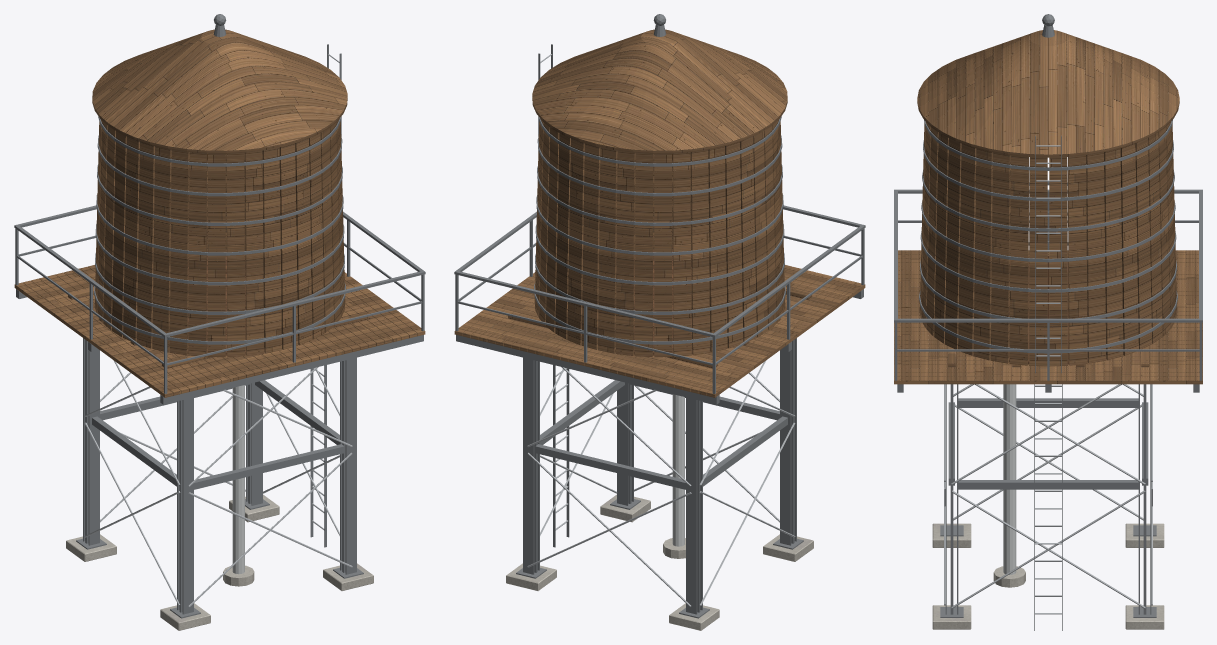
Rendered from water_tower.glb.
The picture shows the model from 3 angles, left to right: view 1: azimuth 30°, elevation 25°; view 2: azimuth 150°, elevation 25°; view 3: azimuth 270°, elevation 25°; orthographic projection. The views are drawn at different scales.
Parts seen in each view (by area): view 1: water_tower_tank_w, water_tower_steel_d, water_tower_steel, water_tower_concrete, water_tower_galv; view 2: water_tower_tank_w, water_tower_steel_d, water_tower_steel, water_tower_concrete, water_tower_galv; view 3: water_tower_tank_w, water_tower_steel_d, water_tower_steel, water_tower_concrete, water_tower_galv, water_tower_dkwood.
Part boxes in pixels (bbox=[...]): water_tower_tank_w: bbox=[14, 29, 425, 397]; water_tower_steel_d: bbox=[14, 14, 425, 618]; water_tower_steel: bbox=[84, 54, 352, 606]; water_tower_concrete: bbox=[66, 494, 373, 630]; water_tower_galv: bbox=[232, 385, 244, 574]; water_tower_tank_w: bbox=[454, 29, 865, 397]; water_tower_steel_d: bbox=[454, 14, 865, 618]; water_tower_steel: bbox=[527, 54, 795, 607]; water_tower_concrete: bbox=[506, 494, 813, 630]; water_tower_galv: bbox=[672, 394, 684, 546]; water_tower_tank_w: bbox=[894, 30, 1202, 384]; water_tower_steel_d: bbox=[894, 14, 1202, 630]; water_tower_steel: bbox=[944, 145, 1152, 614]; water_tower_concrete: bbox=[932, 523, 1164, 629]; water_tower_galv: bbox=[1003, 384, 1016, 574]; water_tower_dkwood: bbox=[1009, 256, 1087, 364].
Size of the model in its own units: 4.8 by 9.71 by 4.8.
Materials: 6 (3 with a texture image).
